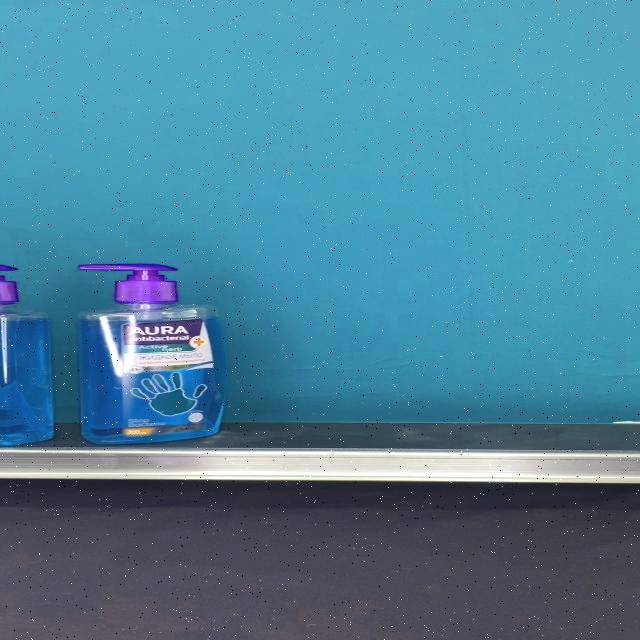Bottle: (78, 264, 228, 444)
Cap: (79, 264, 176, 306)
